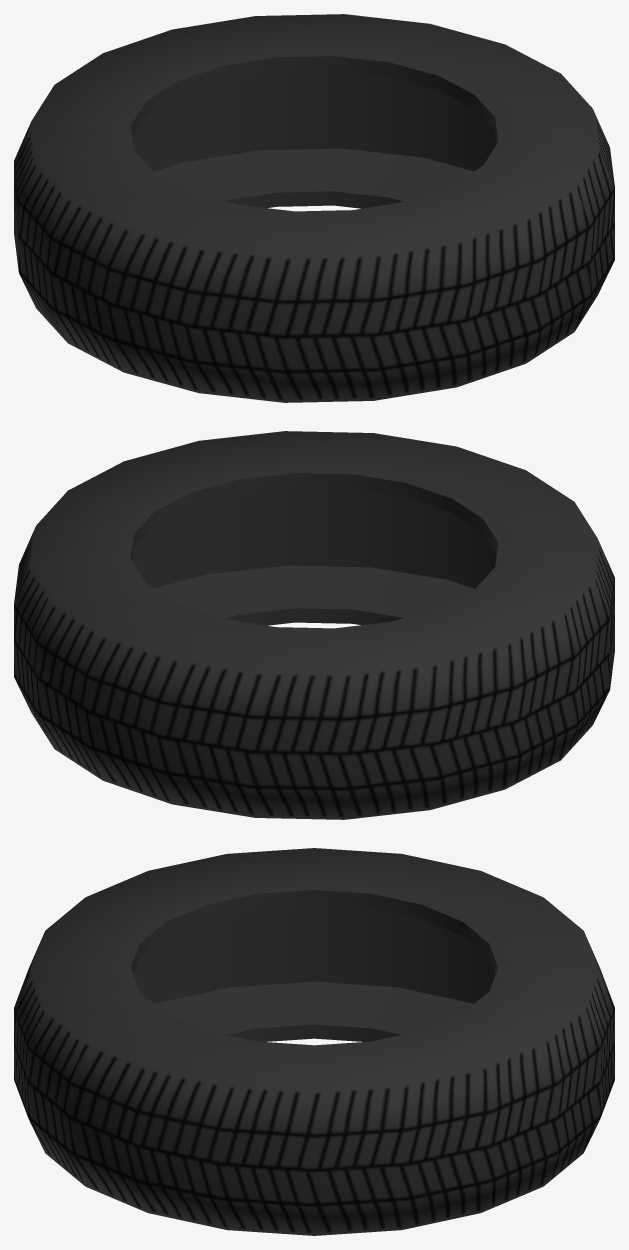
Rendered from Tire.fbx.
3 views of the same model, one above another, from view 1: azimuth 30°, elevation 25°; view 2: azimuth 150°, elevation 25°; view 3: azimuth 270°, elevation 25° (orthographic).
Visible parts, largest first — view 1: pCylinder1; view 2: pCylinder1; view 3: pCylinder1.
Boxes of the visible parts, x1,y1,x2,y2 form: pCylinder1: [14, 14, 614, 402]; pCylinder1: [14, 431, 614, 819]; pCylinder1: [14, 848, 614, 1235].
Size of the model in its own units: 2 by 0.5459 by 2.
